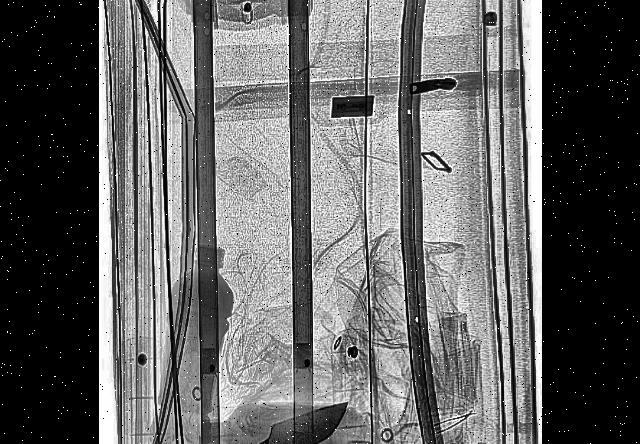Knife: (180, 394, 351, 444)
